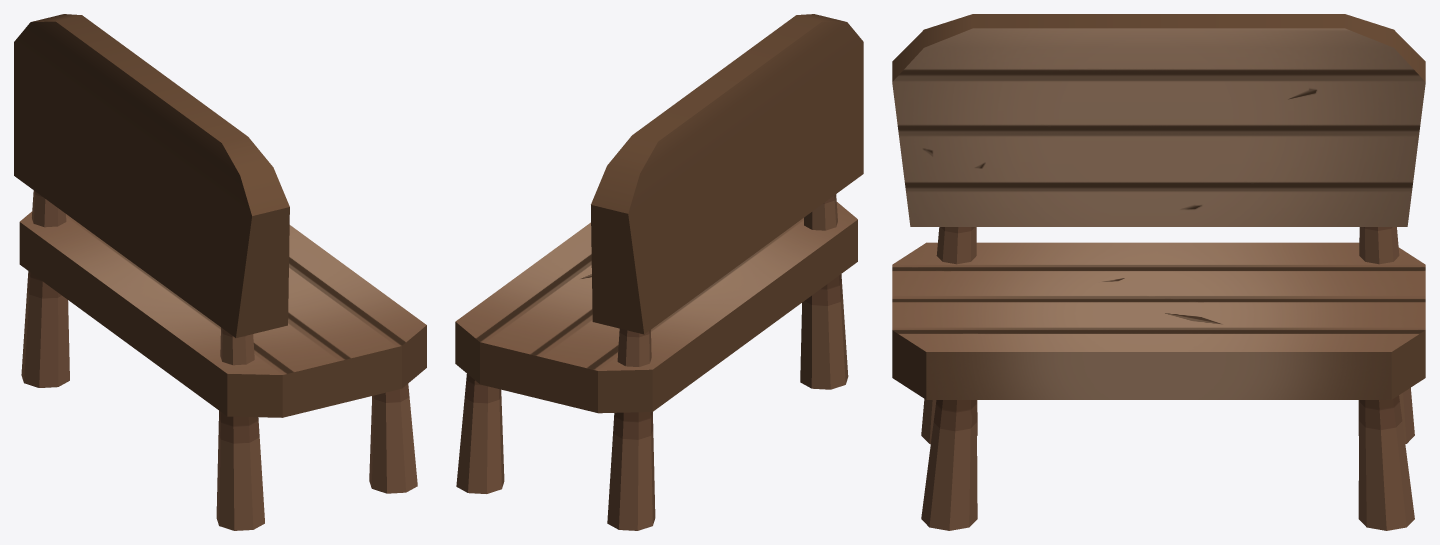
File: Bench.fbx
3 views of the same model, side by side, from view 1: azimuth 30°, elevation 25°; view 2: azimuth 150°, elevation 25°; view 3: azimuth 270°, elevation 25° (orthographic). The views are drawn at different scales.
Visible parts, largest first — view 1: Cylinder.002; view 2: Cylinder.002; view 3: Cylinder.002.
Part boxes in pixels (box(x1,y1,x2,y2)): Cylinder.002: box(14, 14, 426, 530); Cylinder.002: box(455, 14, 863, 530); Cylinder.002: box(892, 14, 1425, 530).
Size of the model in its own units: 96.83 by 172 by 200.
